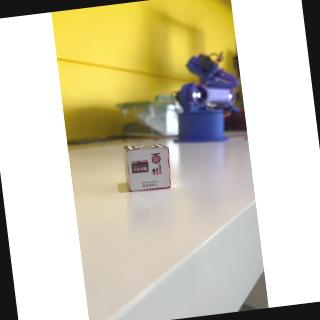Expired_Cosmetic: (123, 149, 173, 194)
